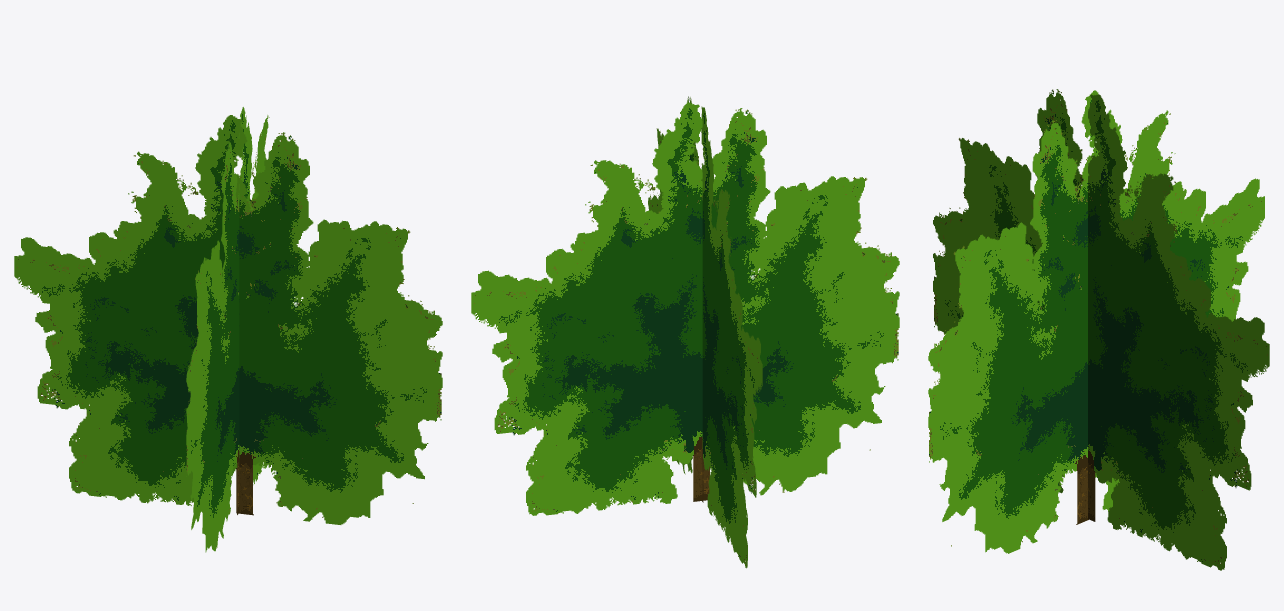
The model's file is arbustito.glb.
3 views of the same model, side by side, from view 1: azimuth 30°, elevation 25°; view 2: azimuth 150°, elevation 25°; view 3: azimuth 270°, elevation 25° (orthographic). The views are drawn at different scales.
Parts seen in each view (by area): view 1: plane; view 2: plane; view 3: plane.
Part boxes in pixels (bbox=[...]): plane: bbox=[14, 107, 442, 552]; plane: bbox=[471, 96, 899, 568]; plane: bbox=[928, 89, 1269, 570].
Size of the model in its own units: 2.26 by 3 by 2.15.
1 material, 1 textured.
